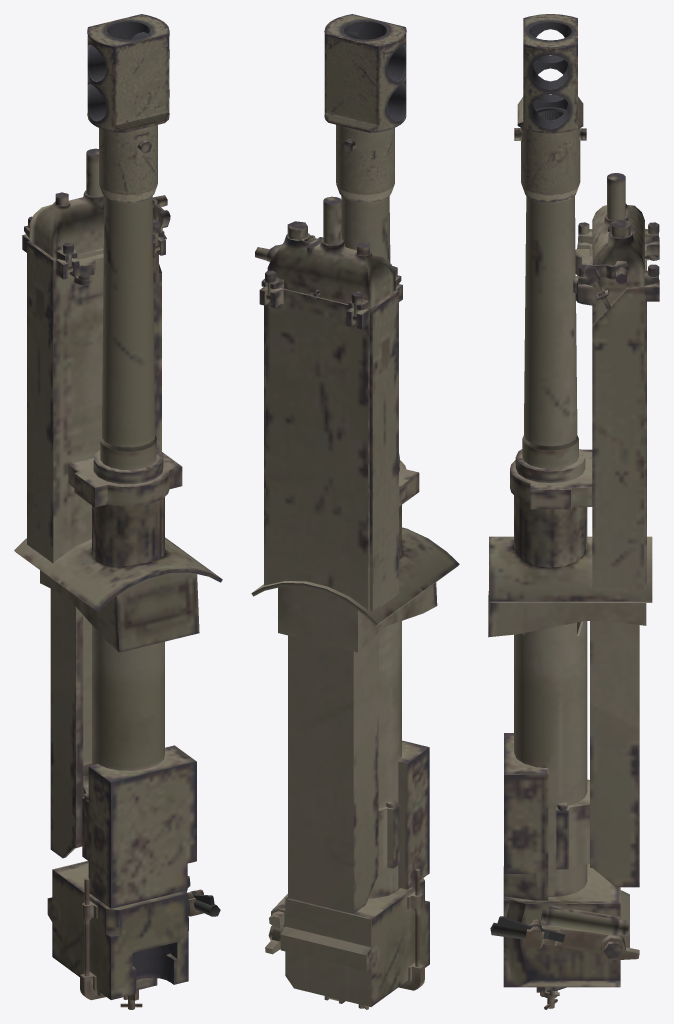
Rendered from Gun_01.glb.
3 renders of one model, left to right at view 1: azimuth 30°, elevation 25°; view 2: azimuth 150°, elevation 25°; view 3: azimuth 270°, elevation 25°, orthographic.
Visible parts, largest first — view 1: set_0_group_0; view 2: set_0_group_0; view 3: set_0_group_0.
Part boxes in pixels (left/top/right/bottom): set_0_group_0: left=14, top=14, right=222, bottom=1009; set_0_group_0: left=251, top=14, right=459, bottom=1009; set_0_group_0: left=488, top=14, right=659, bottom=1009.
Bounding box in the file's own units: 0.4083 × 2.82 × 0.4494.
Materials: 1 (1 with a texture image).
